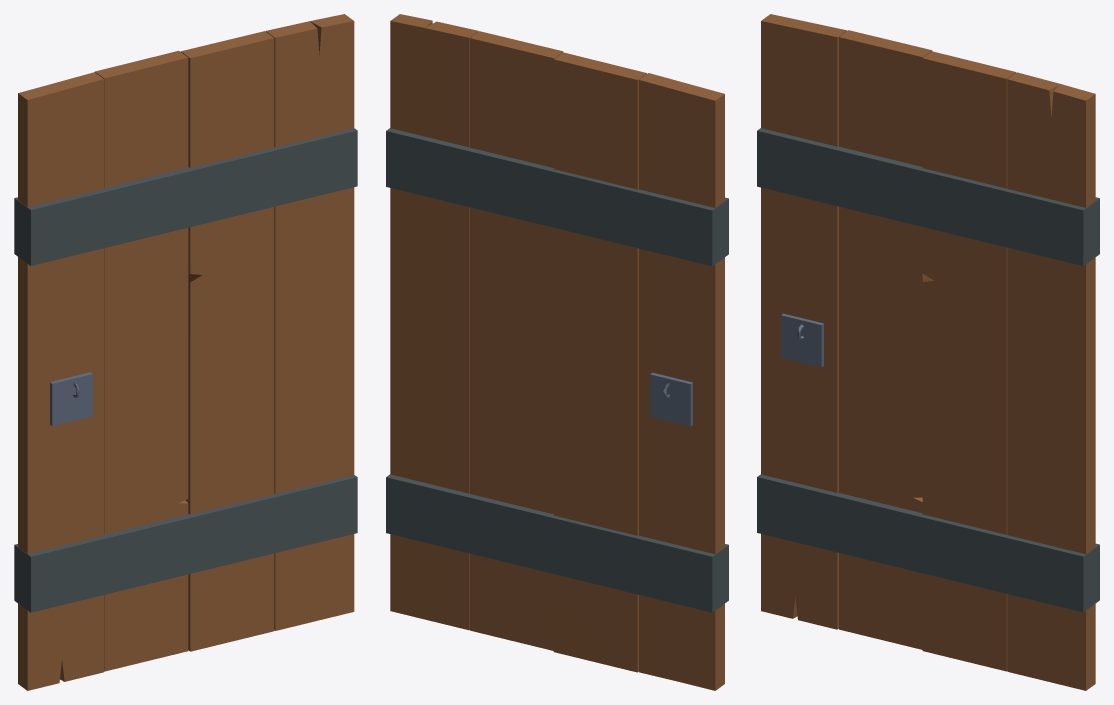
File: Door2_02.fbx
The picture shows the model from 3 angles, left to right: view 1: azimuth 30°, elevation 25°; view 2: azimuth 150°, elevation 25°; view 3: azimuth 330°, elevation 25°; orthographic projection.
Visible parts, largest first — view 1: Door2_02; view 2: Door2_02; view 3: Door2_02.
Boxes of the visible parts, bbox=[...] form: Door2_02: bbox=[14, 14, 357, 690]; Door2_02: bbox=[386, 14, 728, 690]; Door2_02: bbox=[757, 14, 1099, 690].
Size of the model in its own units: 109 by 190 by 13.85.
